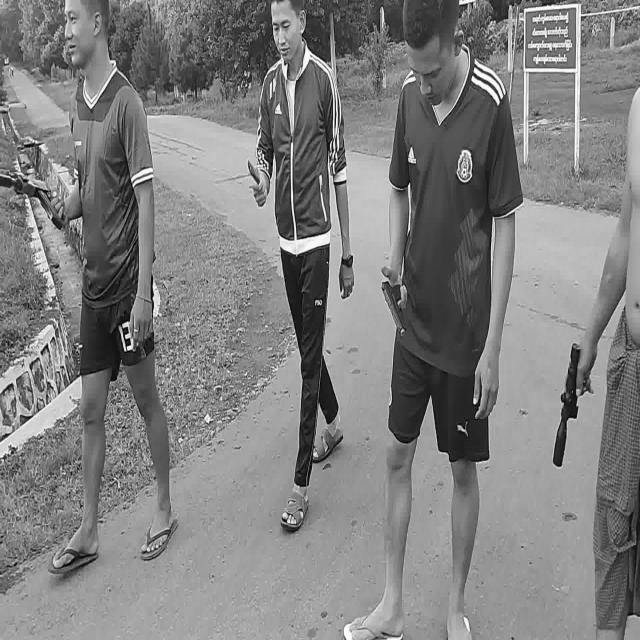gun: (0, 169, 63, 230), (381, 278, 406, 336)
